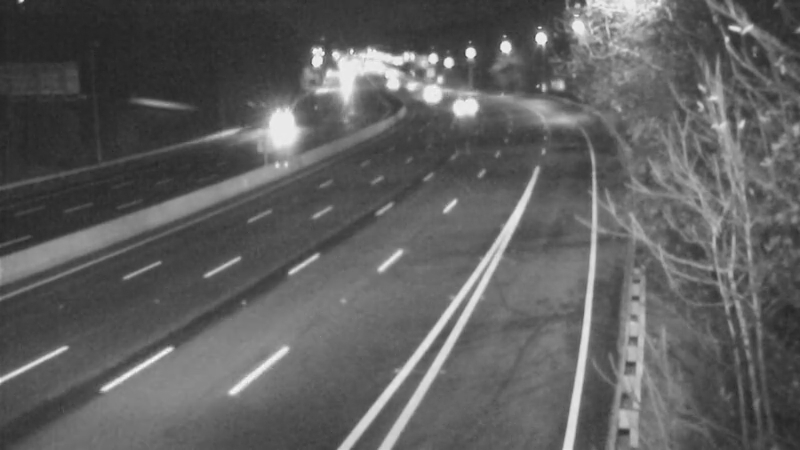vehicle: (438, 80, 488, 130), (255, 94, 305, 144)
